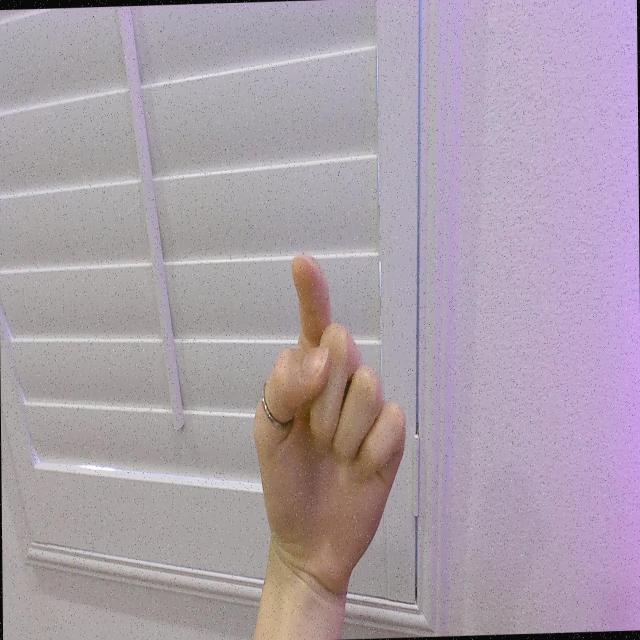Z: (251, 246, 409, 586)
